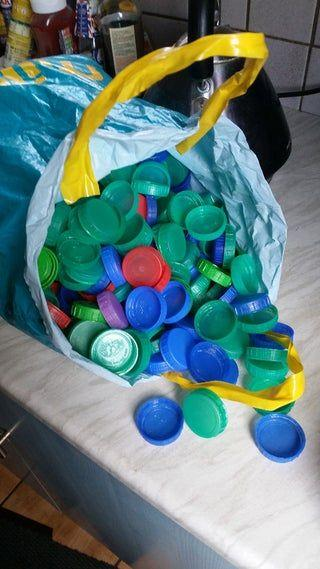HDPE: (72, 185, 128, 255), (251, 413, 306, 464), (133, 396, 184, 446), (182, 387, 228, 439), (90, 328, 140, 374), (125, 285, 168, 332), (194, 299, 239, 342), (187, 341, 231, 384), (122, 245, 164, 287), (159, 326, 196, 371), (184, 204, 228, 240), (130, 159, 170, 196), (231, 254, 260, 298), (157, 223, 187, 262), (70, 301, 106, 324), (244, 346, 289, 364)
LDPE: (0, 54, 288, 269)
